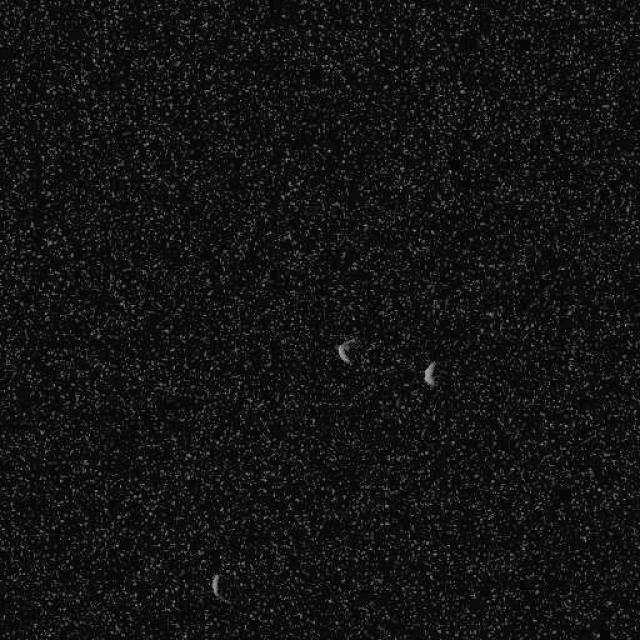D2: (335, 336, 356, 365), (209, 571, 225, 601), (422, 359, 436, 386)
